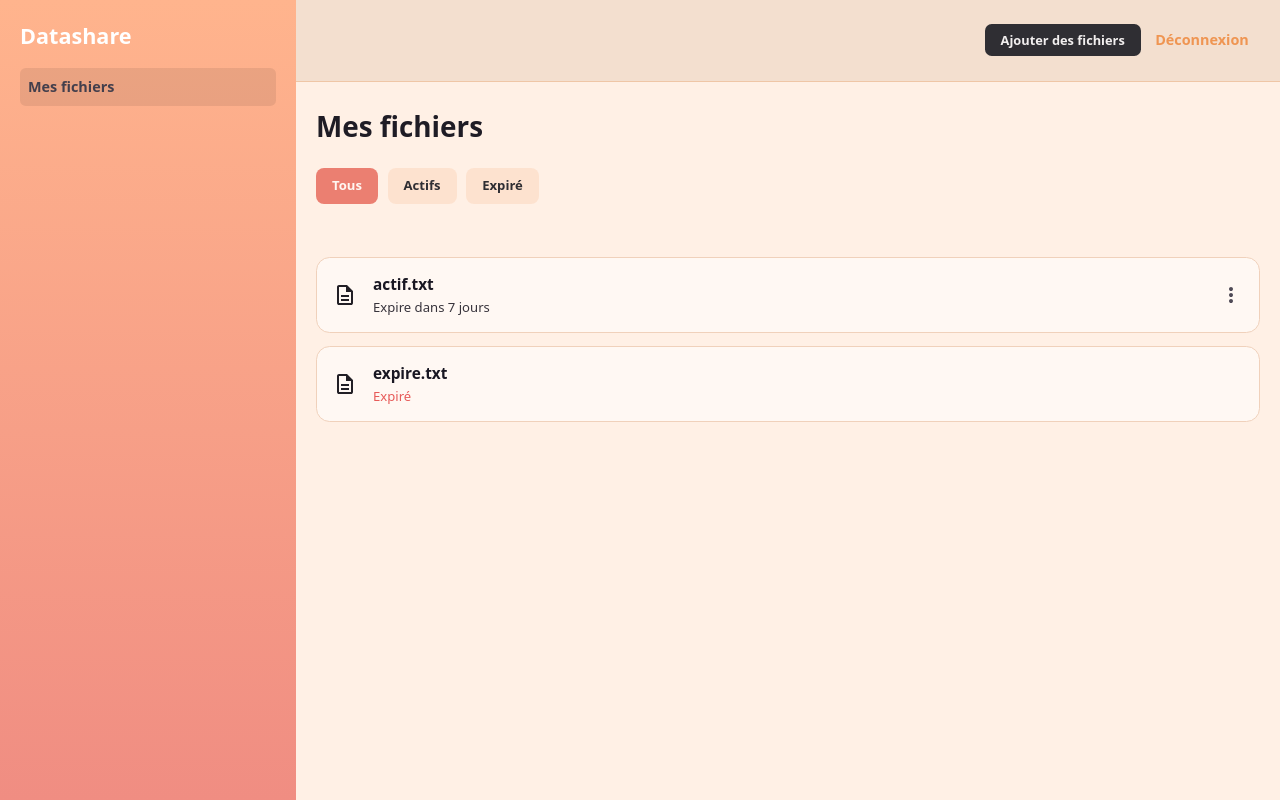
it: MySpacePage › 30.5 filters active files
Click the tab "Actifs".
click(422, 186)  # box [388,168,457,204]
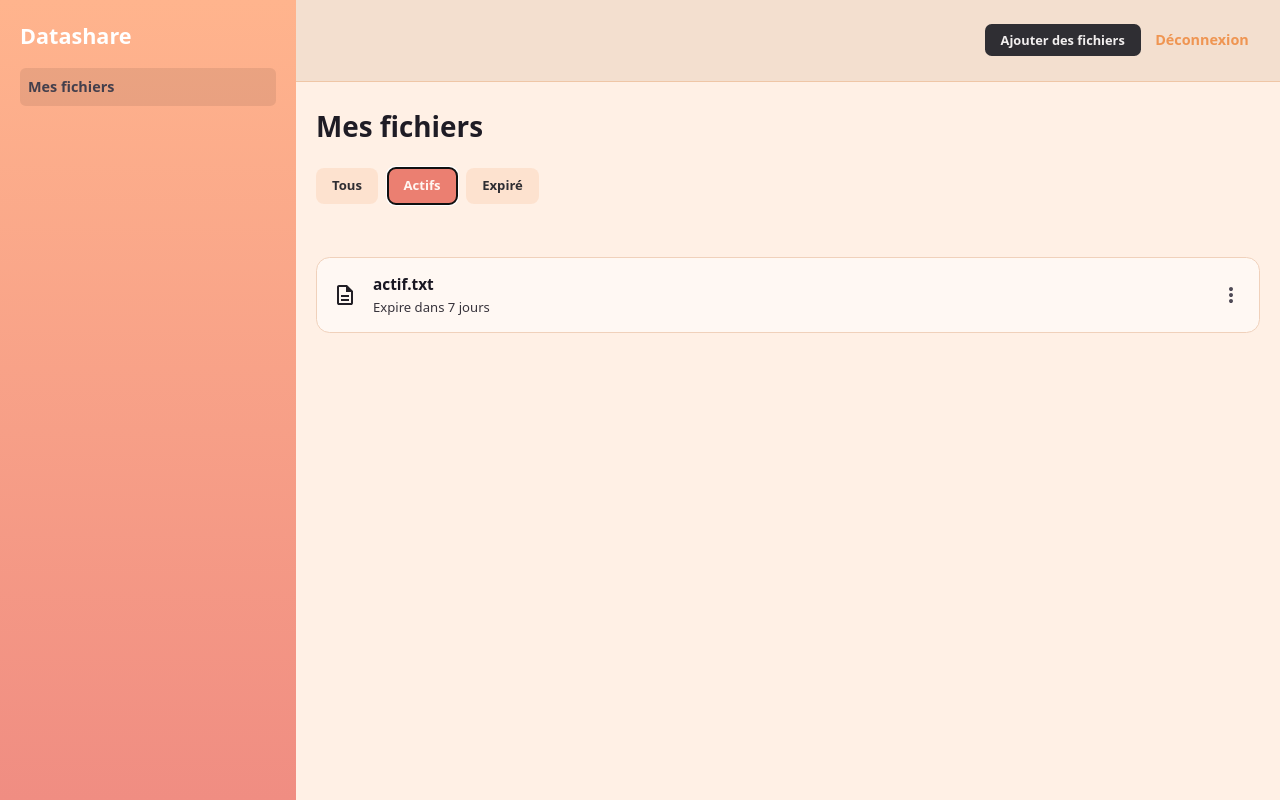
Expected: the heading "actif.txt" is shown, [373,274,434,295]
Expected: the heading "expire.txt" is gone
